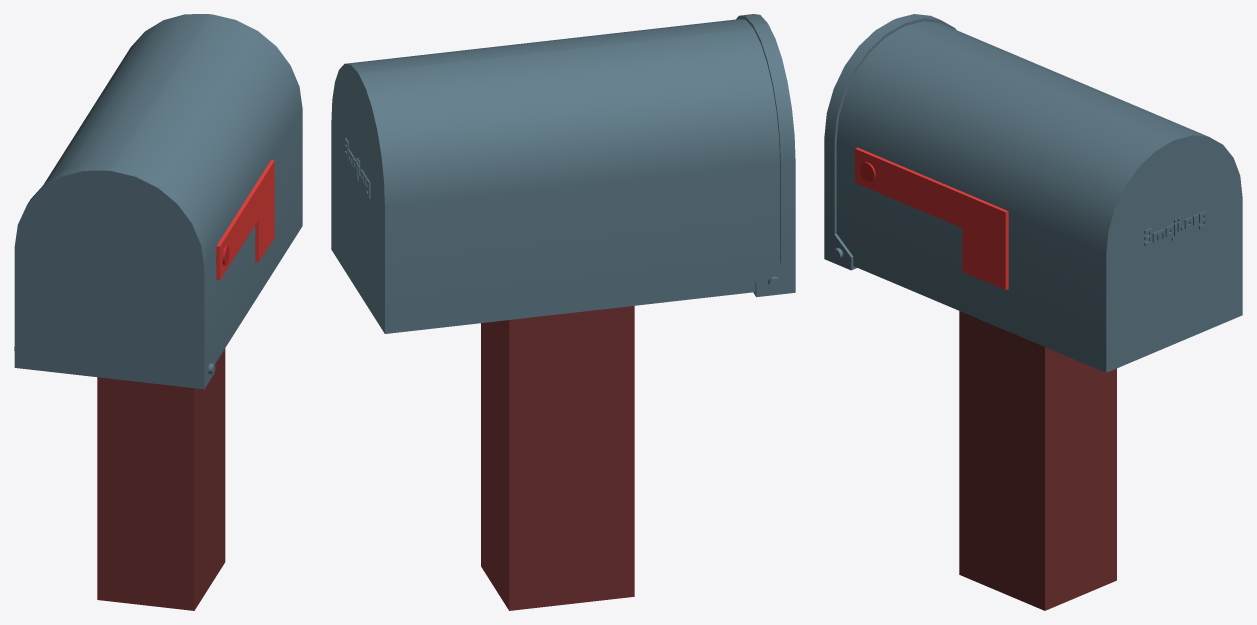
File: closed_mailbox_with_lowered_flag.glb
3 renders of one model, left to right at view 1: azimuth 30°, elevation 25°; view 2: azimuth 150°, elevation 25°; view 3: azimuth 270°, elevation 25°, orthographic. The views are drawn at different scales.
Visible parts, largest first — view 1: Cube.971; view 2: Cube.971; view 3: Cube.971.
Boxes of the visible parts, left/top/right/bottom form: Cube.971: left=14, top=14, right=302, bottom=610; Cube.971: left=331, top=14, right=795, bottom=610; Cube.971: left=824, top=14, right=1242, bottom=610.
Size of the model in its own units: 1.46 by 1.92 by 1.46.
1 material, 1 textured.
